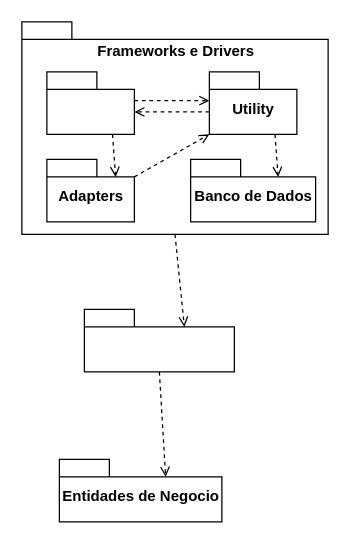
Image size: 350x544. Some labels were removed from this diagram. Each missing label, with the centre of its shape:
"GUI" belongs at pixel 90 102.
"Regras de Negocio" belongs at pixel 158 340.
